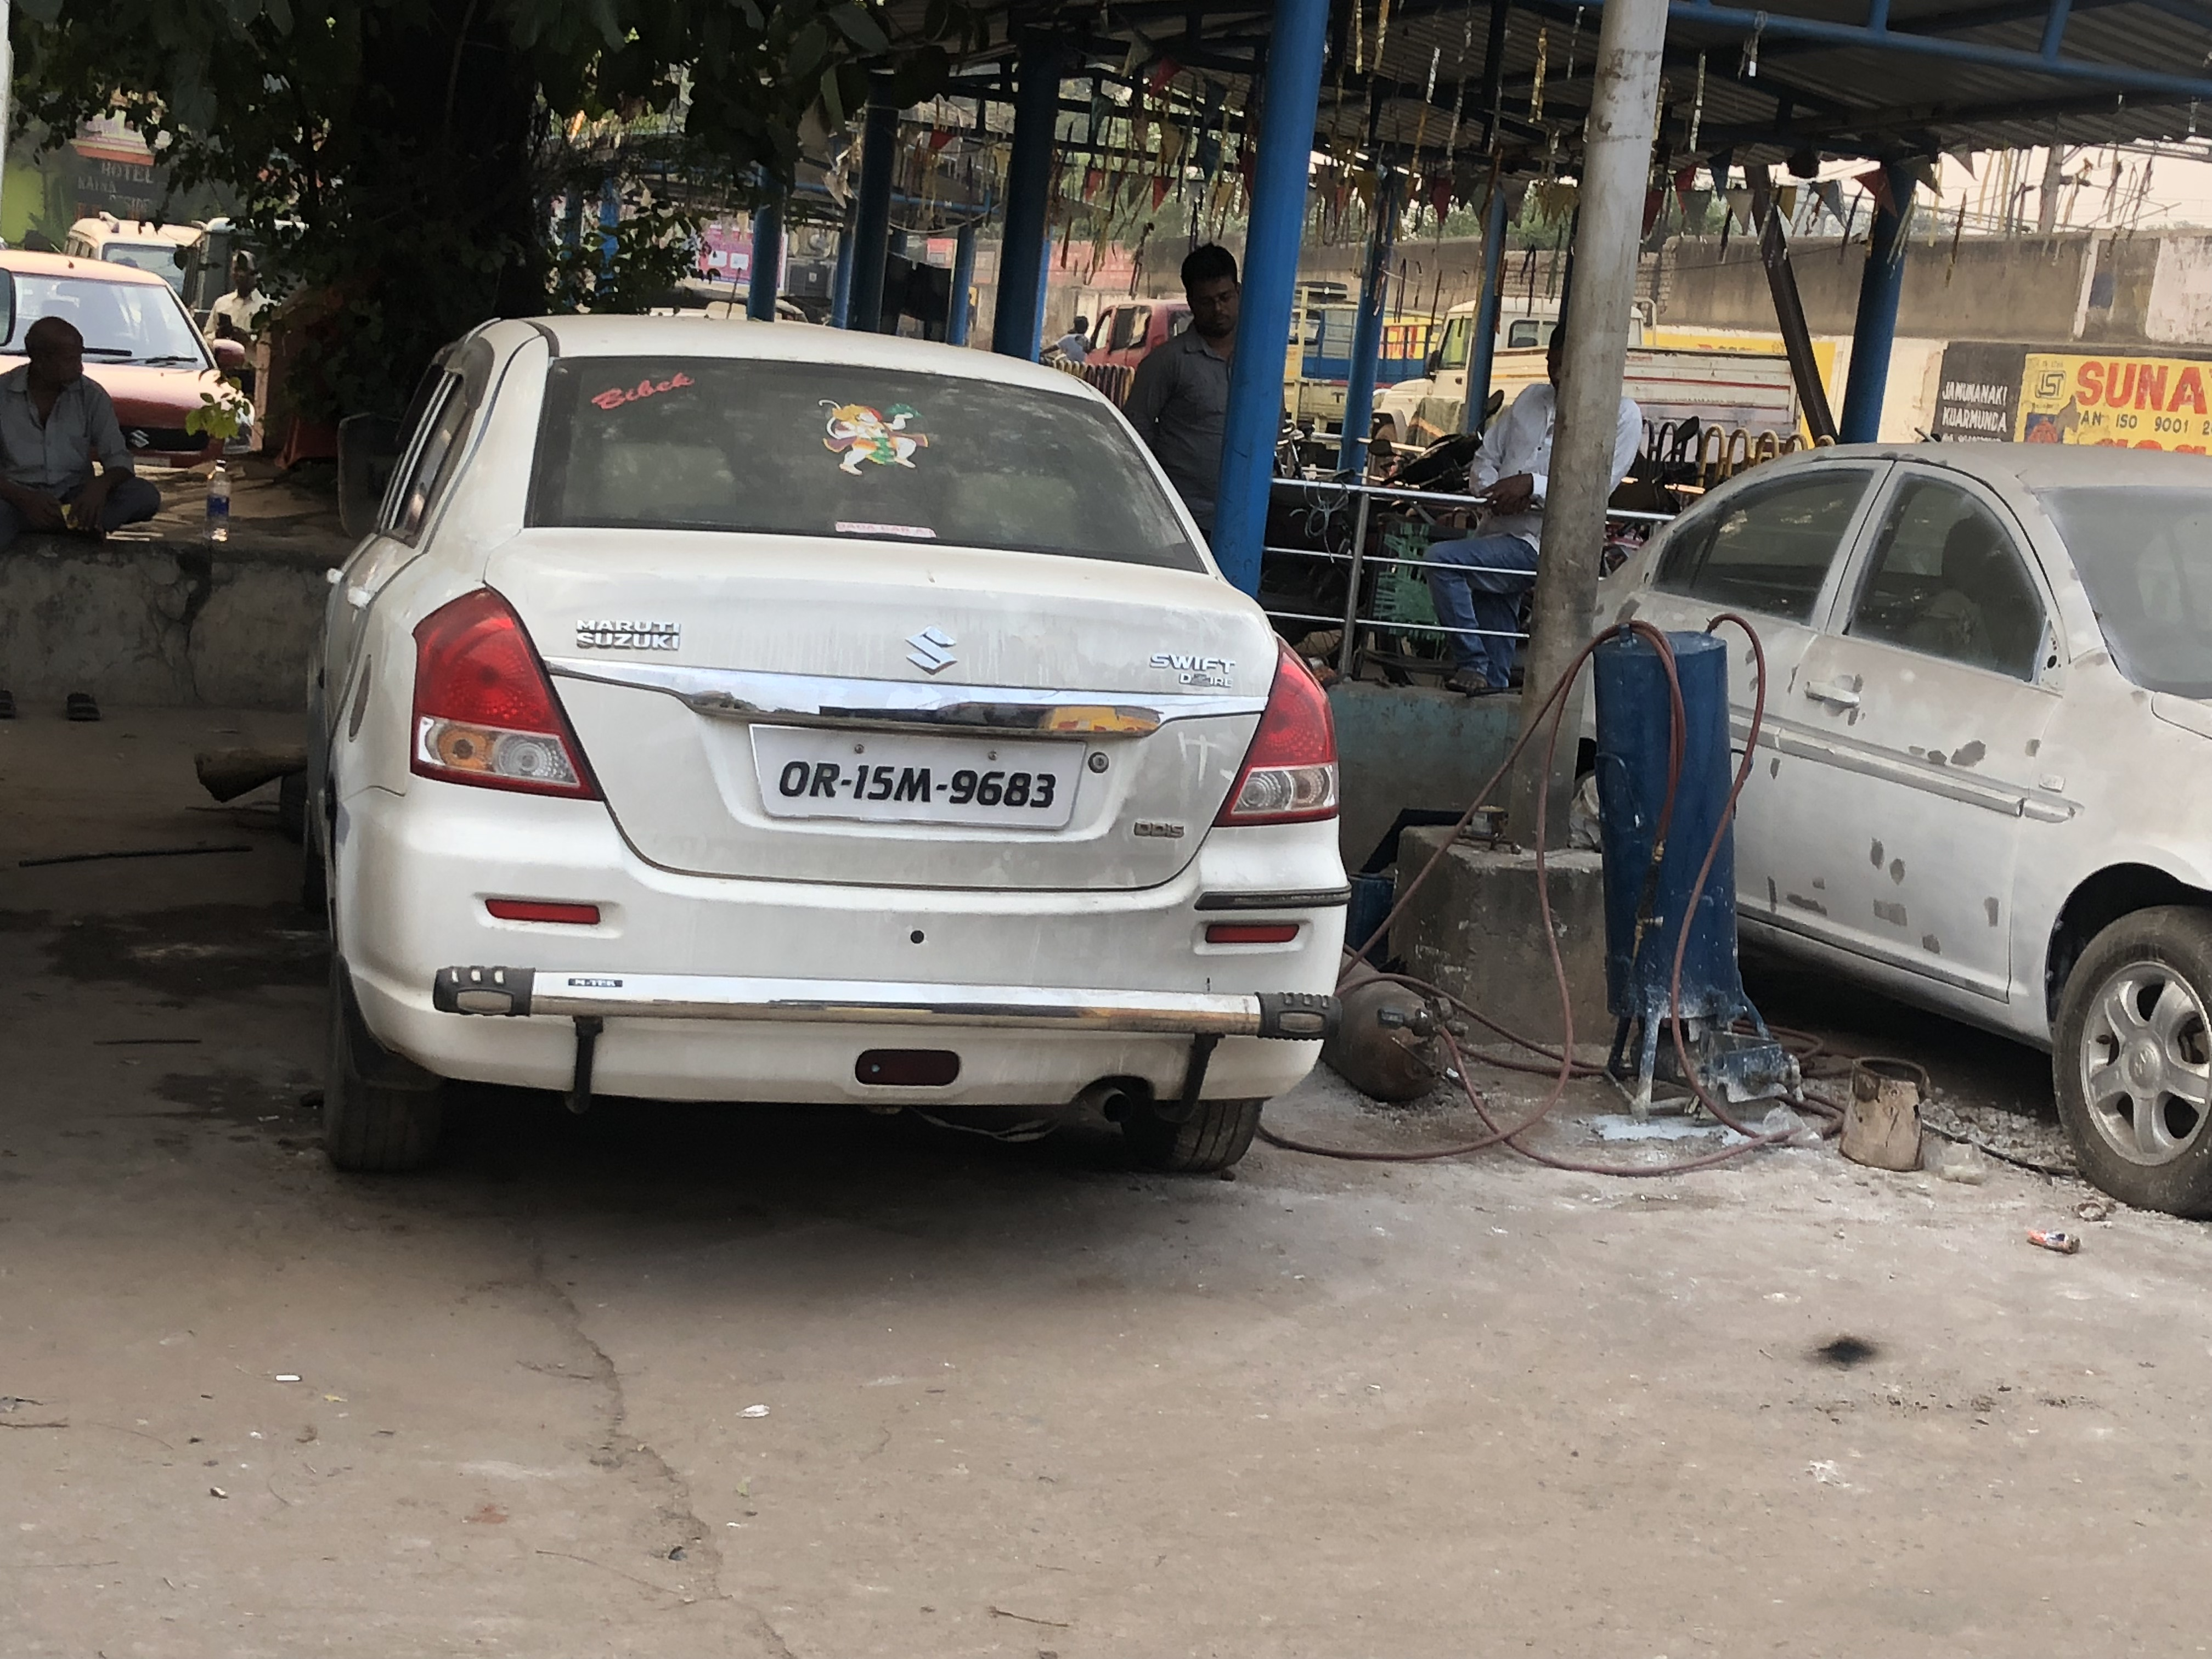licenseplate: (744, 709, 1109, 840)
